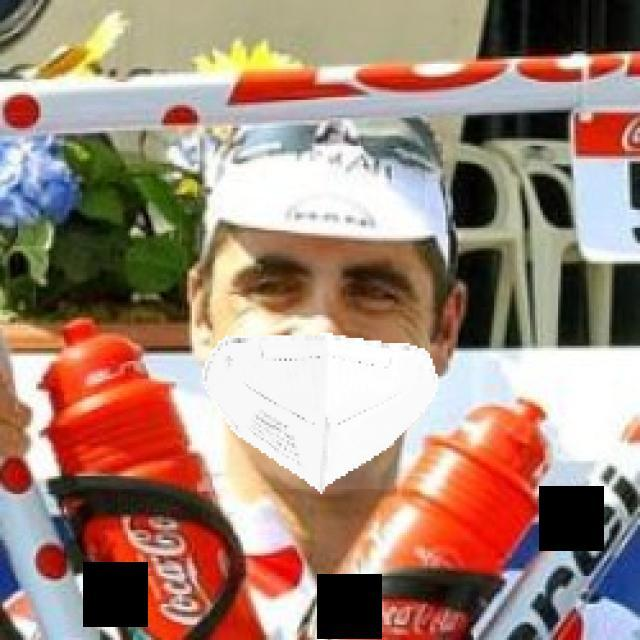kn95: (202, 233, 447, 489)
